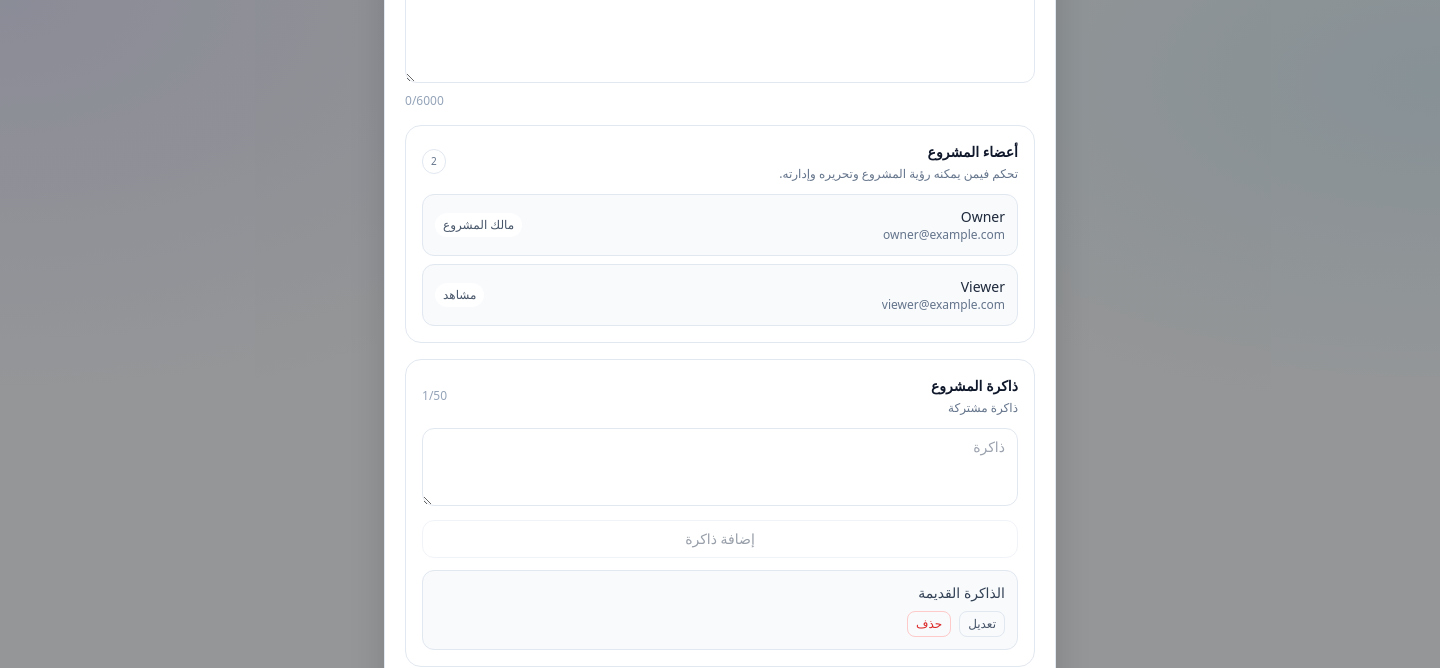
Test: ProjectEditor › edits and deletes project memory
The image size is (1440, 668).
Expected: the text "الذاكرة القديمة" is shown, x1=918 y1=582 x2=1005 y2=602
Click the button "تعديل": (982, 624) x1=959 y1=610 x2=1005 y2=636
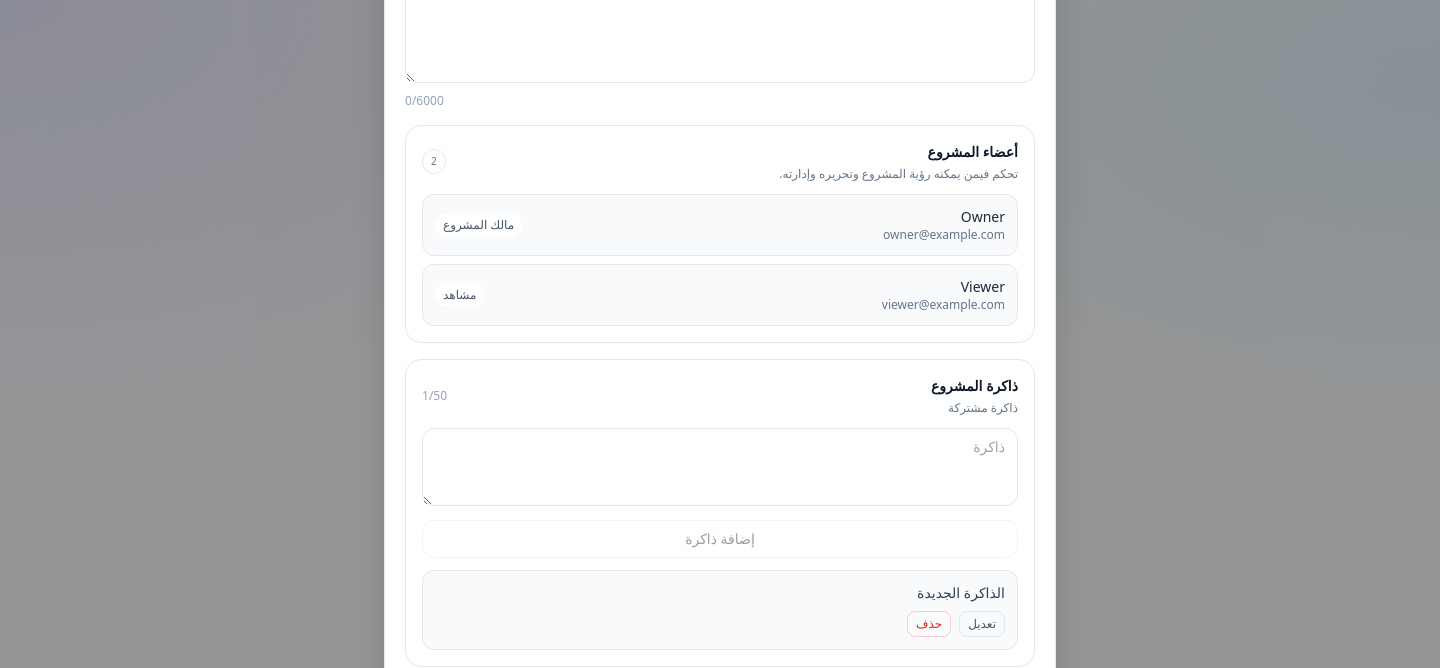
Expected: the text "الذاكرة الجديدة" is shown, x1=917 y1=582 x2=1005 y2=602
Click the button "حذف": (929, 624) x1=907 y1=610 x2=951 y2=636
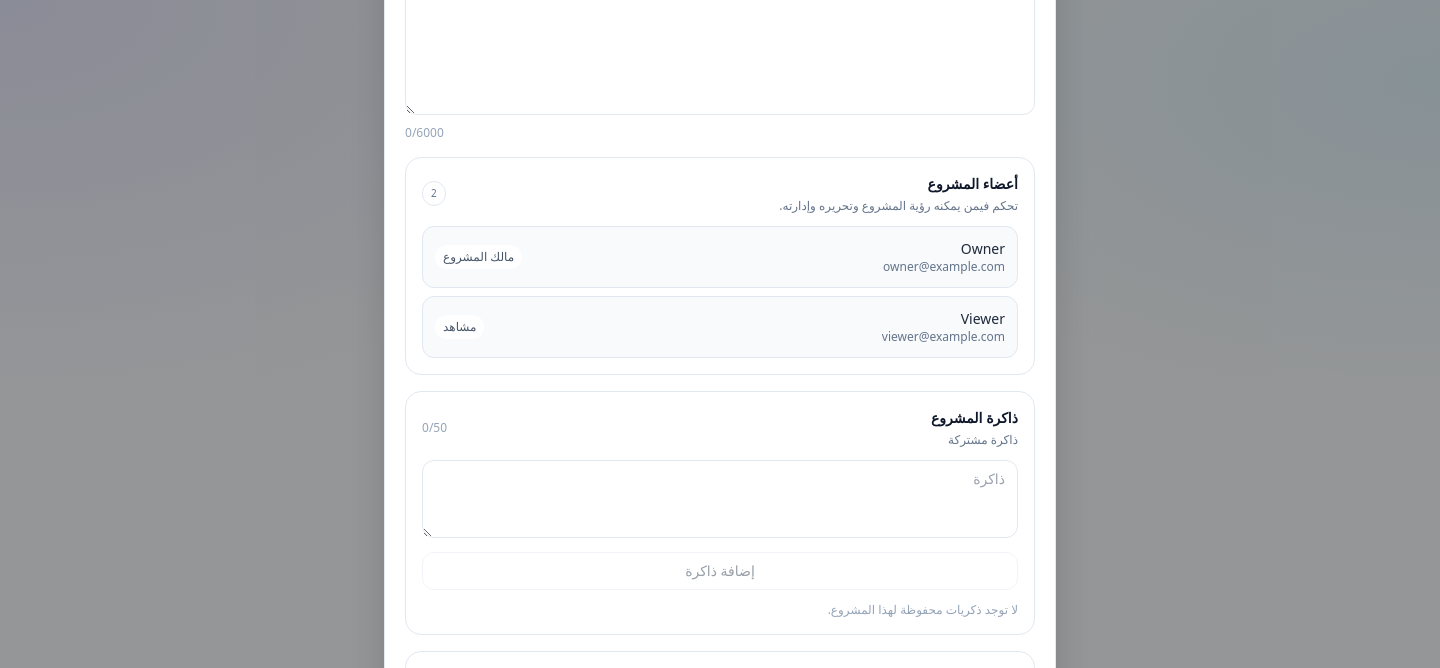
Expected: the text "الذاكرة الجديدة" is gone
